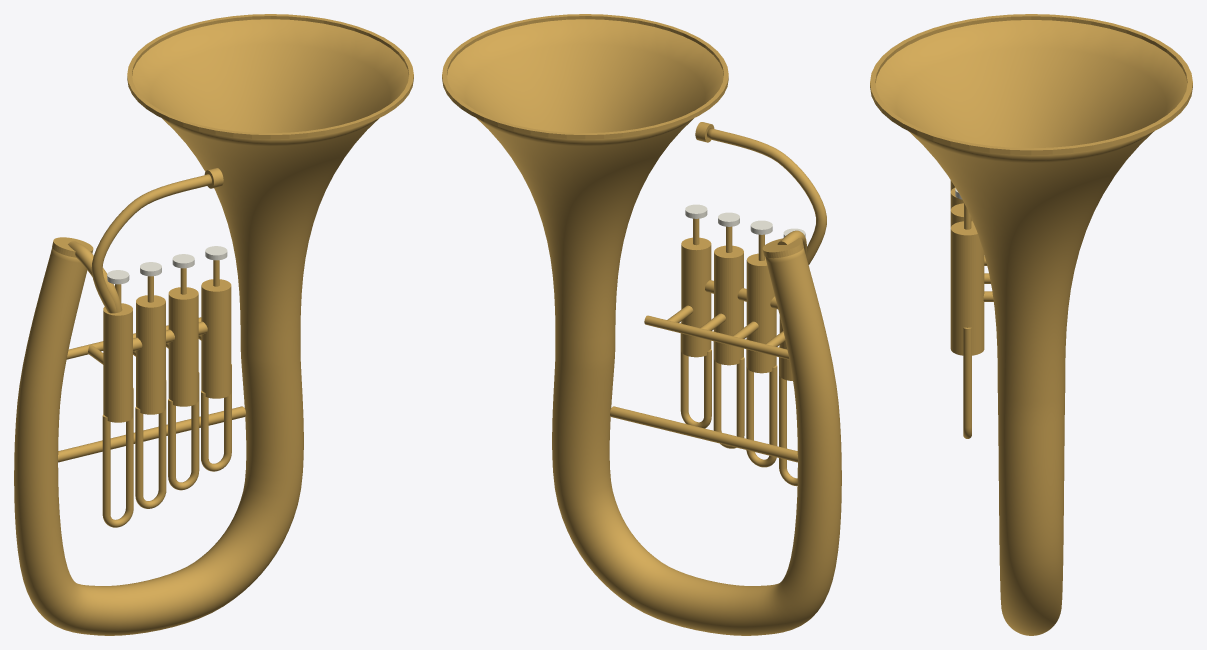
File: A-NEW-20261026-TUBA-001_LOD0_R6.glb
The picture shows the model from 3 angles, left to right: view 1: azimuth 30°, elevation 25°; view 2: azimuth 150°, elevation 25°; view 3: azimuth 270°, elevation 25°; orthographic projection. The views are drawn at different scales.
Visible parts, largest first — view 1: main bow and open bell, rolled bell lip, valve casing 3, valve casing 2, valve casing 1, valve casing 0, open lead pipe, closed tuning loop 0, closed tuning loop 1, closed tuning loop 2, bell bow brace, closed tuning loop 3 (+1 smaller); view 2: main bow and open bell, rolled bell lip, valve casing 3, valve casing 2, valve casing 1, open lead pipe, bell bow brace, closed tuning loop 1, bank support crossbar, closed tuning loop 2, closed tuning loop 3, closed tuning loop 0 (+1 smaller); view 3: main bow and open bell, rolled bell lip, valve casing 3, closed tuning loop 3.
Part boxes in pixels (left/top/right/bottom): main bow and open bell: left=14, top=19, right=408, bottom=635; rolled bell lip: left=127, top=14, right=413, bottom=139; valve casing 3: left=201, top=279, right=231, bottom=398; valve casing 2: left=168, top=287, right=198, bottom=406; valve casing 1: left=136, top=295, right=165, bottom=414; valve casing 0: left=103, top=303, right=132, bottom=422; open lead pipe: left=91, top=174, right=211, bottom=313; closed tuning loop 0: left=102, top=388, right=133, bottom=527; closed tuning loop 1: left=135, top=380, right=166, bottom=508; closed tuning loop 2: left=168, top=372, right=199, bottom=490; bell bow brace: left=58, top=406, right=245, bottom=462; closed tuning loop 3: left=201, top=364, right=231, bottom=471; main bow and open bell: left=447, top=19, right=841, bottom=635; rolled bell lip: left=442, top=14, right=728, bottom=139; valve casing 3: left=681, top=237, right=711, bottom=357; valve casing 2: left=714, top=245, right=743, bottom=365; valve casing 1: left=746, top=253, right=776, bottom=373; open lead pipe: left=707, top=128, right=826, bottom=264; bell bow brace: left=610, top=406, right=797, bottom=462; closed tuning loop 1: left=746, top=339, right=777, bottom=467; bank support crossbar: left=644, top=315, right=789, bottom=359; closed tuning loop 2: left=713, top=330, right=744, bottom=448; closed tuning loop 3: left=680, top=322, right=711, bottom=428; closed tuning loop 0: left=779, top=346, right=797, bottom=486; main bow and open bell: left=875, top=20, right=1187, bottom=635; rolled bell lip: left=870, top=14, right=1192, bottom=155; valve casing 3: left=950, top=221, right=984, bottom=355; closed tuning loop 3: left=963, top=327, right=971, bottom=438.
Bounding box in the file's own units: 0.5537 × 0.7363 × 0.364.
